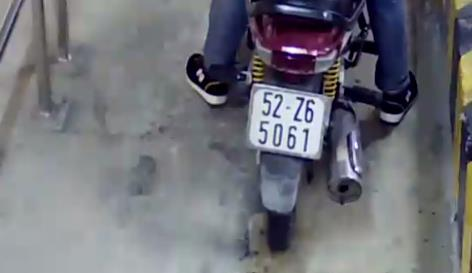lisence: (245, 82, 327, 160)
